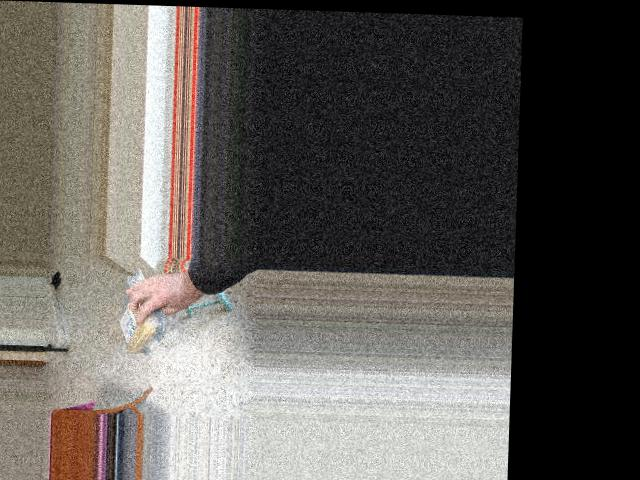cheese: (116, 292, 160, 357)
